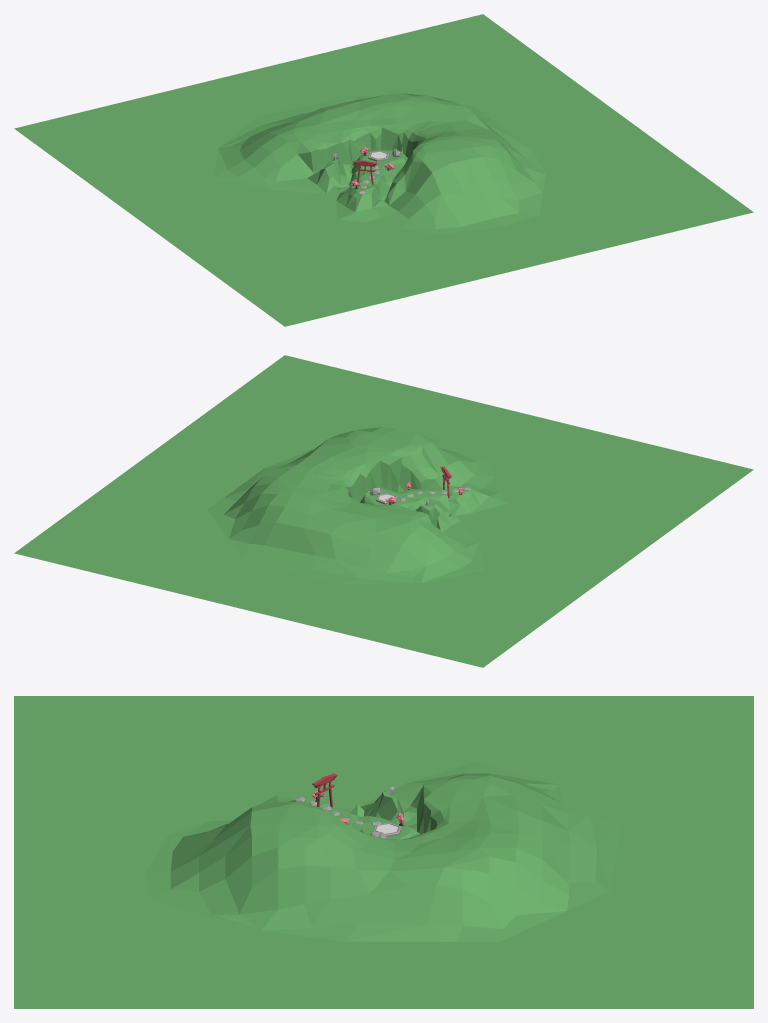
File: ZaWardo.fbx
The picture shows the model from 3 angles, top to bottom: view 1: azimuth 30°, elevation 25°; view 2: azimuth 150°, elevation 25°; view 3: azimuth 270°, elevation 25°; orthographic projection. The views are drawn at different scales.
Parts seen in each view (by area): view 1: Land; view 2: Land; view 3: Land.
Part boxes in pixels (x1=…): Land: x1=14, y1=14, x2=753, y2=326; Land: x1=14, y1=355, x2=753, y2=667; Land: x1=14, y1=696, x2=753, y2=1008.
Size of the model in its own units: 8000 by 1290 by 8000.
